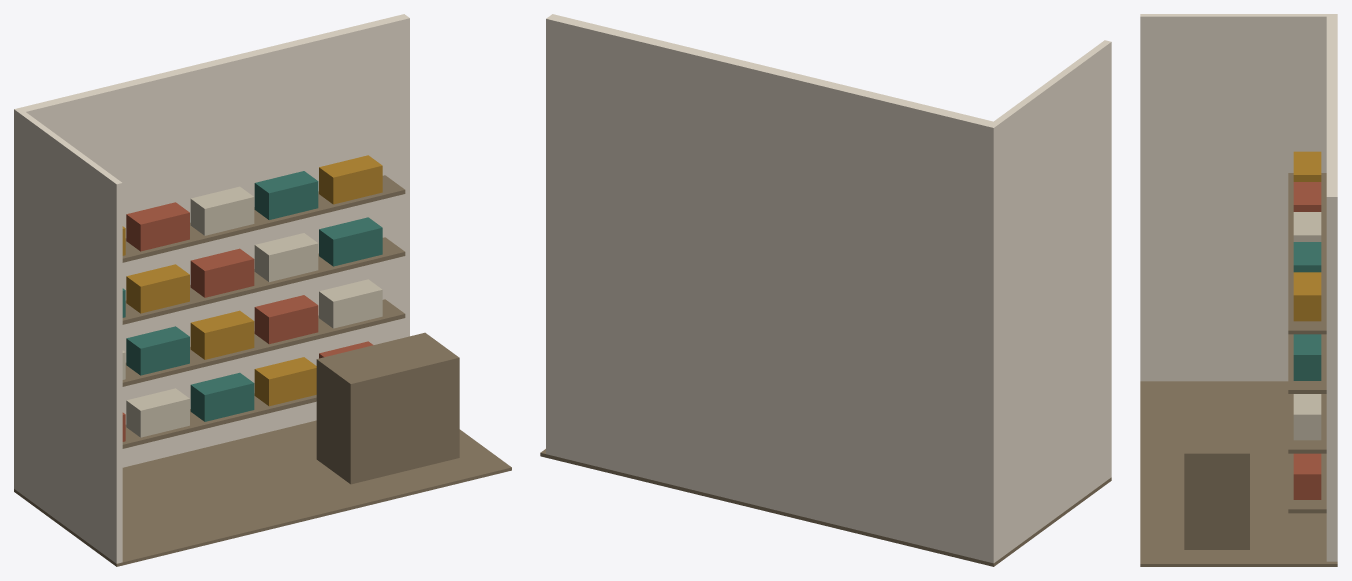
The model's file is city_proxy_shop.glb.
3 renders of one model, left to right at view 1: azimuth 30°, elevation 25°; view 2: azimuth 150°, elevation 25°; view 3: azimuth 270°, elevation 25°, orthographic. The views are drawn at different scales.
Visible parts, largest first — view 1: CityProxyShop_Back, CityProxyShop_Side, CityProxyShop_Floor, CityProxyShop_Counter, CityProxyShop_Shelf3, CityProxyShop_Shelf2, CityProxyShop_Shelf1, CityProxyShop_Goods2_2, CityProxyShop_Goods2_3, CityProxyShop_Goods3_3, CityProxyShop_Goods0_2, CityProxyShop_Goods1_2 (+11 smaller); view 2: CityProxyShop_Back, CityProxyShop_Side, CityProxyShop_Floor; view 3: CityProxyShop_Side, CityProxyShop_Floor, CityProxyShop_Counter, CityProxyShop_Back, CityProxyShop_Shelf3, CityProxyShop_Goods3_4, CityProxyShop_Goods2_4, CityProxyShop_Goods0_4, CityProxyShop_Goods1_4, CityProxyShop_Shelf0, CityProxyShop_Shelf1, CityProxyShop_Shelf2 (+4 smaller).
Part boxes in pixels (left/top/right/bottom): CityProxyShop_Back: left=19, top=14, right=409, bottom=467; CityProxyShop_Side: left=14, top=108, right=122, bottom=563; CityProxyShop_Floor: left=14, top=420, right=511, bottom=566; CityProxyShop_Counter: left=316, top=332, right=459, bottom=484; CityProxyShop_Shelf3: left=122, top=175, right=405, bottom=262; CityProxyShop_Shelf2: left=122, top=237, right=405, bottom=324; CityProxyShop_Shelf1: left=122, top=299, right=405, bottom=386; CityProxyShop_Goods2_2: left=190, top=248, right=254, bottom=297; CityProxyShop_Goods2_3: left=254, top=233, right=318, bottom=282; CityProxyShop_Goods3_3: left=254, top=171, right=318, bottom=219; CityProxyShop_Goods0_2: left=190, top=372, right=254, bottom=421; CityProxyShop_Goods1_2: left=190, top=310, right=254, bottom=359; CityProxyShop_Back: left=546, top=14, right=993, bottom=561; CityProxyShop_Side: left=988, top=40, right=1111, bottom=563; CityProxyShop_Floor: left=540, top=449, right=1111, bottom=566; CityProxyShop_Side: left=1140, top=14, right=1337, bottom=381; CityProxyShop_Floor: left=1140, top=381, right=1337, bottom=566; CityProxyShop_Counter: left=1184, top=402, right=1249, bottom=549; CityProxyShop_Back: left=1326, top=16, right=1337, bottom=561; CityProxyShop_Shelf3: left=1288, top=173, right=1326, bottom=334; CityProxyShop_Goods3_4: left=1293, top=272, right=1321, bottom=321; CityProxyShop_Goods2_4: left=1293, top=334, right=1321, bottom=380; CityProxyShop_Goods0_4: left=1293, top=453, right=1321, bottom=499; CityProxyShop_Goods1_4: left=1293, top=394, right=1321, bottom=440; CityProxyShop_Shelf0: left=1288, top=453, right=1326, bottom=513; CityProxyShop_Shelf1: left=1288, top=394, right=1326, bottom=453; CityProxyShop_Shelf2: left=1288, top=334, right=1326, bottom=393.
Bounding box in the file's own units: 4 × 3.7 × 1.8.
